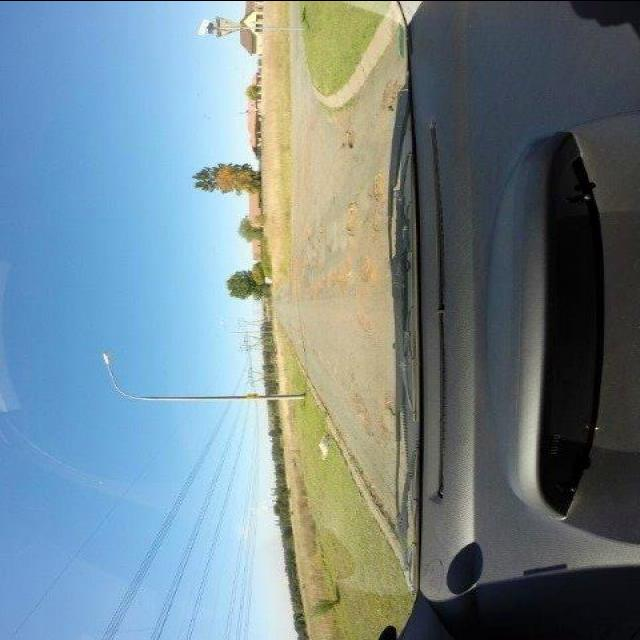lubang: (342, 385, 374, 437), (323, 250, 357, 296), (338, 202, 364, 239), (364, 204, 388, 242), (285, 252, 304, 300), (302, 216, 328, 251), (336, 115, 358, 154), (379, 384, 395, 429), (357, 256, 375, 290), (380, 69, 394, 112), (369, 170, 387, 202), (352, 311, 376, 333), (297, 315, 310, 353)
